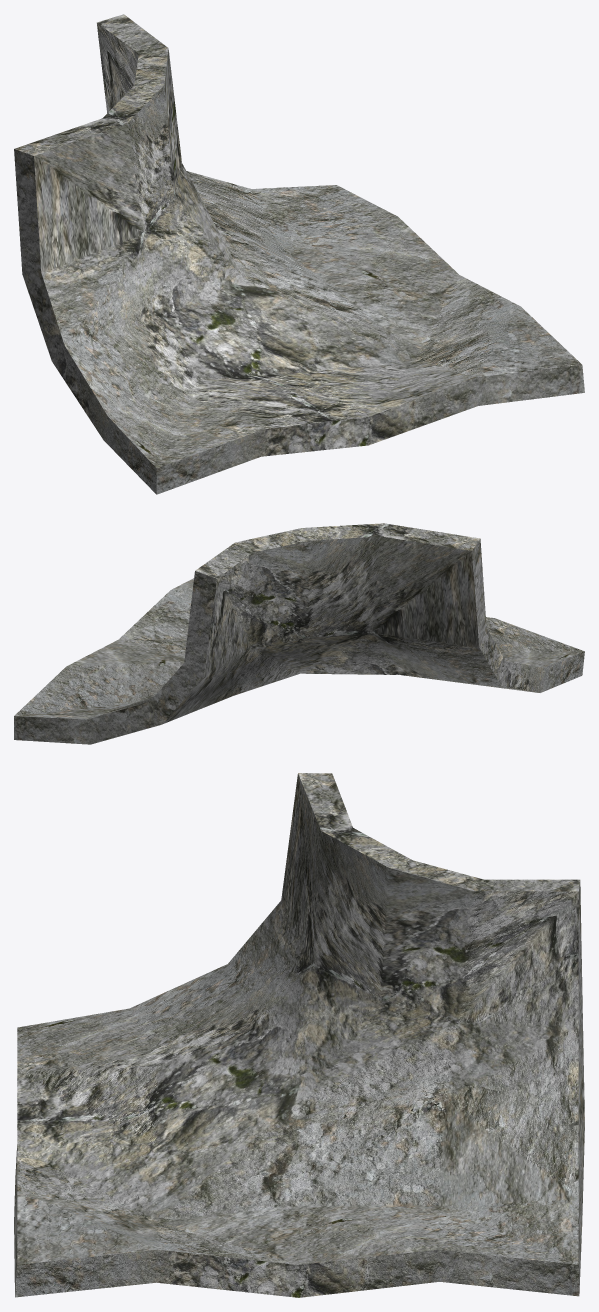
File: UWFloorCorner.fbx
The picture shows the model from 3 angles, top to bottom: view 1: azimuth 30°, elevation 25°; view 2: azimuth 150°, elevation 25°; view 3: azimuth 270°, elevation 25°; orthographic projection. The views are drawn at different scales.
Visible parts, largest first — view 1: UWFloorCorner; view 2: UWFloorCorner; view 3: UWFloorCorner.
Boxes of the visible parts, x1,y1,x2,y2 form: UWFloorCorner: (14,14,584,494); UWFloorCorner: (14,523,584,744); UWFloorCorner: (14,773,584,1297).
Size of the model in its own units: 814 by 475 by 813.
